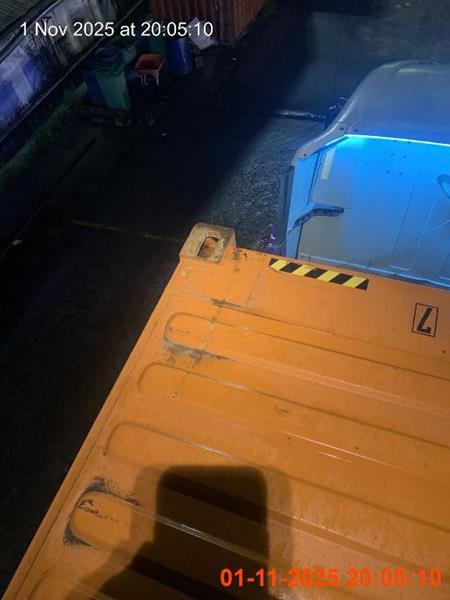broken: (2, 59, 448, 599)
